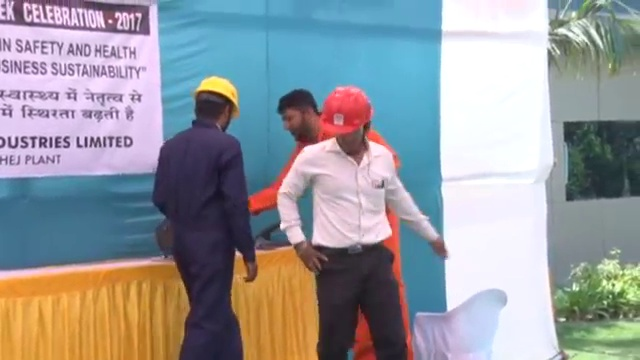helmet: (319, 84, 373, 134), (192, 72, 241, 119)
helmet_off: (278, 87, 319, 142)
helmet_on: (318, 83, 374, 154), (189, 70, 242, 134)
person: (278, 84, 453, 360), (146, 69, 256, 360), (269, 84, 399, 179)
